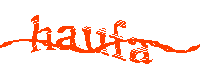a: (55, 20, 78, 51), (127, 38, 153, 65)
f: (110, 16, 127, 62)
h: (30, 15, 54, 54)
u: (83, 22, 110, 58)
